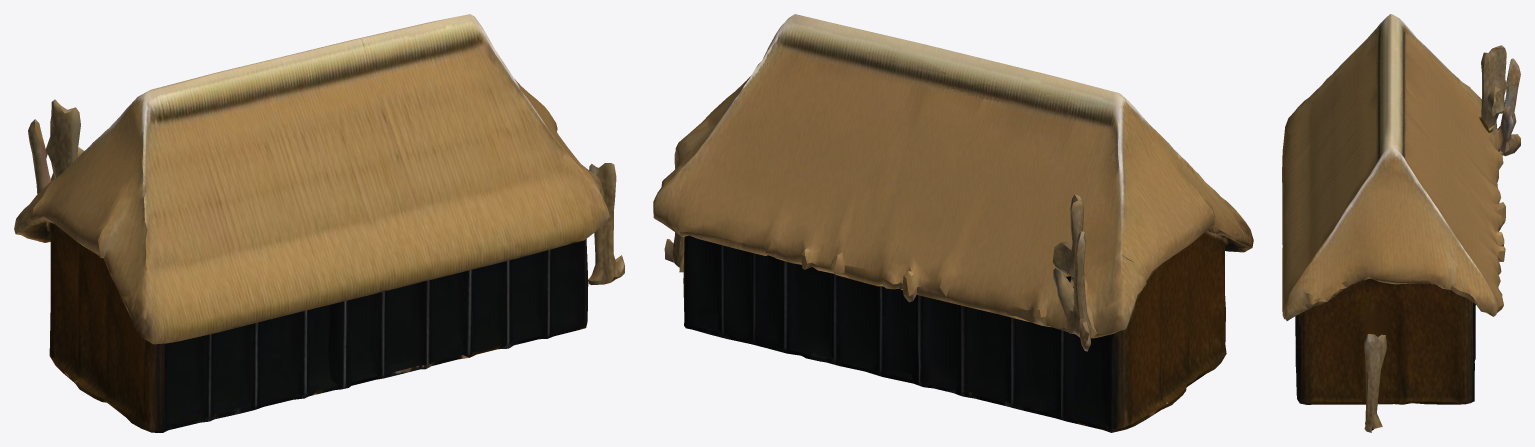
File: guaranies_centro_v1.glb
3 renders of one model, left to right at view 1: azimuth 30°, elevation 25°; view 2: azimuth 150°, elevation 25°; view 3: azimuth 270°, elevation 25°, orthographic. The views are drawn at different scales.
Parts seen in each view (by area): view 1: geometry_0; view 2: geometry_0; view 3: geometry_0.
Boxes of the visible parts, <box> form: geometry_0: <box>14,14,624,432</box>; geometry_0: <box>653,14,1253,432</box>; geometry_0: <box>1282,14,1520,432</box>.
Size of the model in its own units: 3.4 by 1.76 by 1.6.
Materials: 1 (1 with a texture image).
